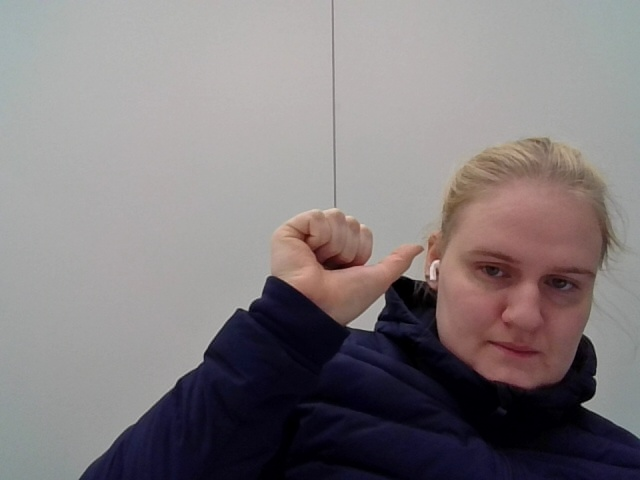left: (245, 180, 443, 342)
